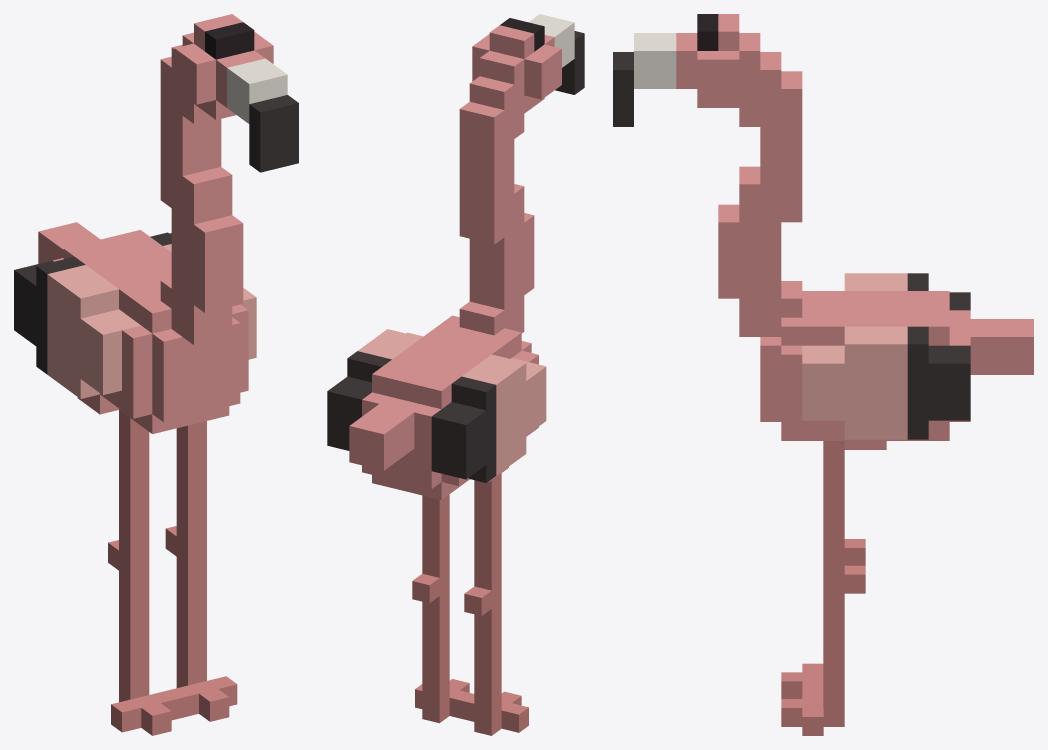
File: flamingo.glb
3 renders of one model, left to right at view 1: azimuth 30°, elevation 25°; view 2: azimuth 150°, elevation 25°; view 3: azimuth 270°, elevation 25°, orthographic. The views are drawn at different scales.
Parts seen in each view (by area): view 1: flamingo; view 2: flamingo; view 3: flamingo.
Part boxes in pixels (left/top/right/bottom): flamingo: left=14, top=14, right=298, bottom=735; flamingo: left=327, top=14, right=584, bottom=735; flamingo: left=613, top=14, right=1033, bottom=735.
Size of the model in its own units: 0.8 by 3.6 by 2.
Materials: 1 (1 with a texture image).
